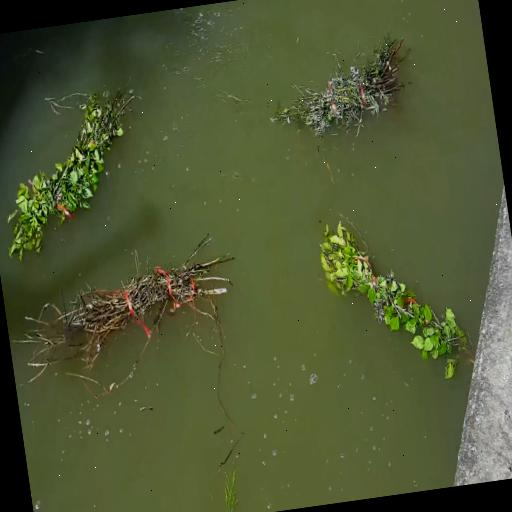twig: (306, 212, 476, 396), (0, 77, 139, 253), (53, 249, 234, 365), (293, 41, 412, 155)
